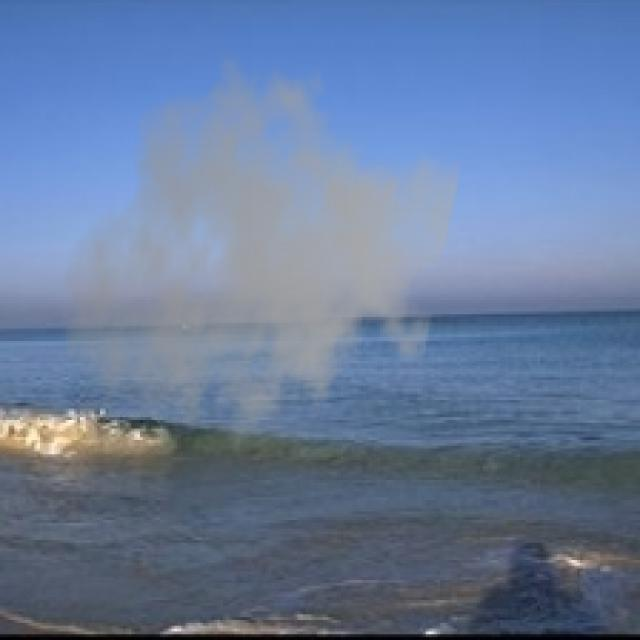Smoke: (57, 48, 463, 474)
